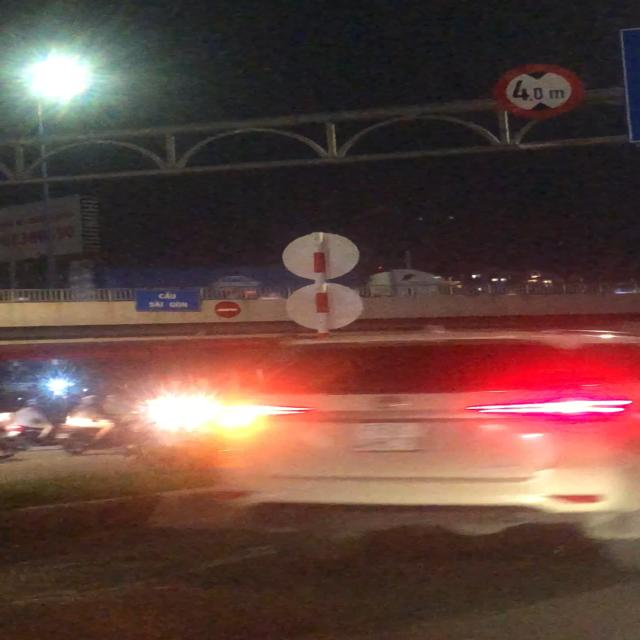Bien bao cam di nguoc chieu: (212, 299, 244, 319)
Bien bao han che chieu cao: (495, 63, 588, 119)
